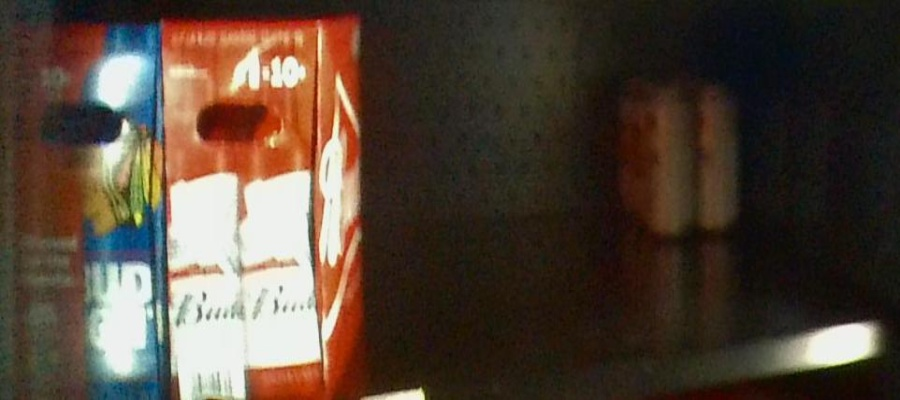bottle: (162, 16, 358, 393), (2, 22, 167, 400), (646, 85, 745, 236)
